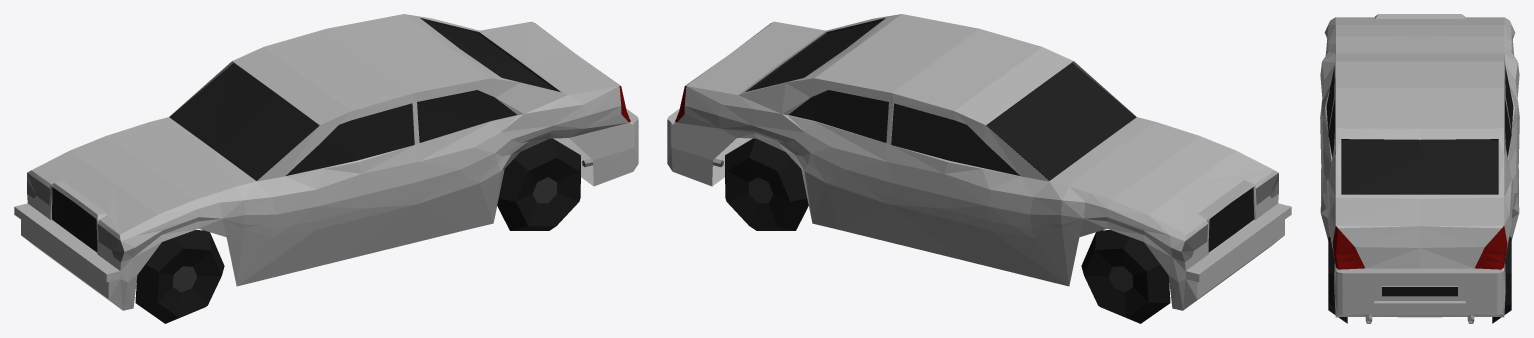
Rendered from Model_Chrysler2.fbx.
The picture shows the model from 3 angles, left to right: view 1: azimuth 30°, elevation 25°; view 2: azimuth 150°, elevation 25°; view 3: azimuth 270°, elevation 25°; orthographic projection. The views are drawn at different scales.
Visible parts, largest first — view 1: Cube.001; view 2: Cube.001; view 3: Cube.001.
Boxes of the visible parts, box(x1,y1,x2,y2) form: Cube.001: box(14, 14, 638, 323); Cube.001: box(667, 14, 1291, 323); Cube.001: box(1320, 14, 1519, 323).
Size of the model in its own units: 138 by 129 by 416.
